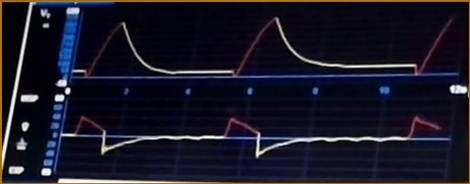Flow: (66, 106, 447, 171)
Leakage Volume: (78, 12, 455, 83)
